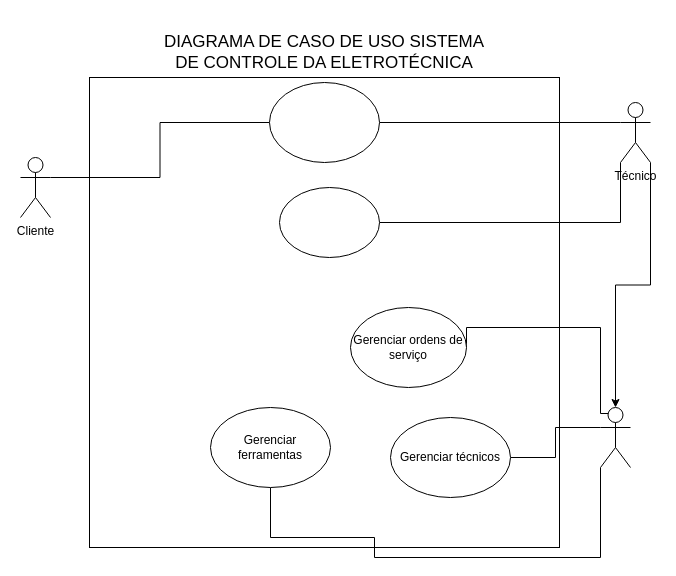
Some shapes in this 676 by 576 pixel diagram are drawn without their labels. Each missing label, with the centre of its shape:
Abrir ordem de serviço: the point at 324,122
Dar baixa na ordem de serviço: the point at 329,222
Gerente: the point at 615,437
